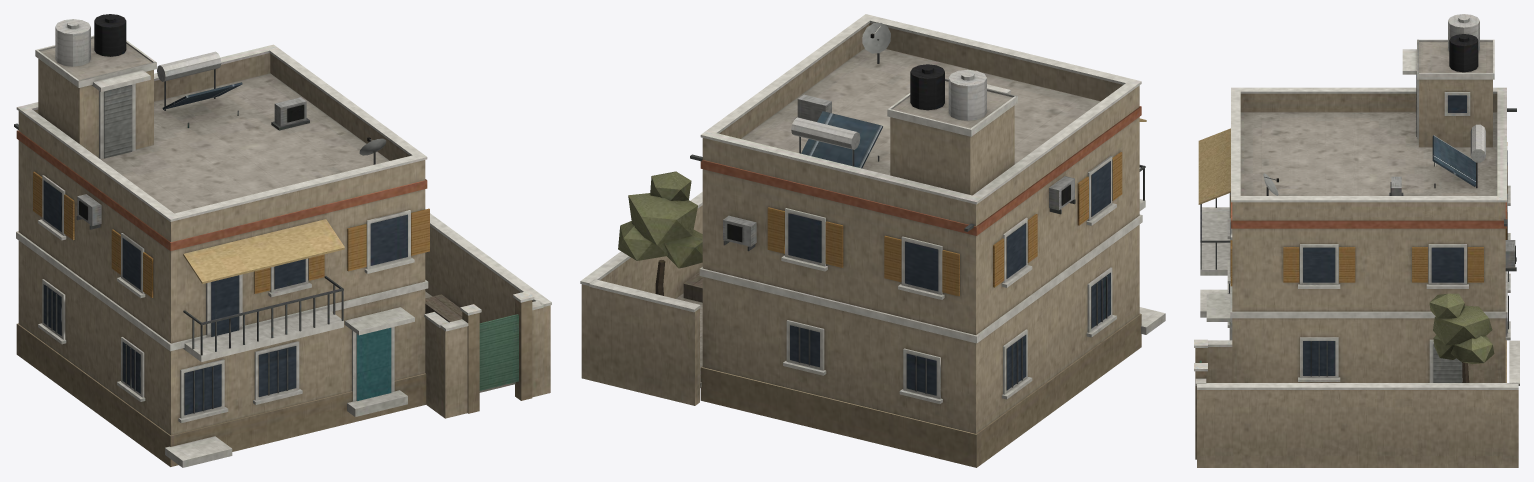
Rendered from civ_house_b.glb.
3 renders of one model, left to right at view 1: azimuth 30°, elevation 25°; view 2: azimuth 150°, elevation 25°; view 3: azimuth 270°, elevation 25°, orthographic. The views are drawn at different scales.
Parts seen in each view (by area): view 1: civ_house_b; view 2: civ_house_b; view 3: civ_house_b.
Boxes of the visible parts, bbox=[...] form: civ_house_b: bbox=[14, 14, 551, 467]; civ_house_b: bbox=[580, 14, 1165, 467]; civ_house_b: bbox=[1194, 14, 1519, 467].
Bounding box in the file's own units: 11.98 × 10.5 × 10.13.
2 materials, 2 textured.
